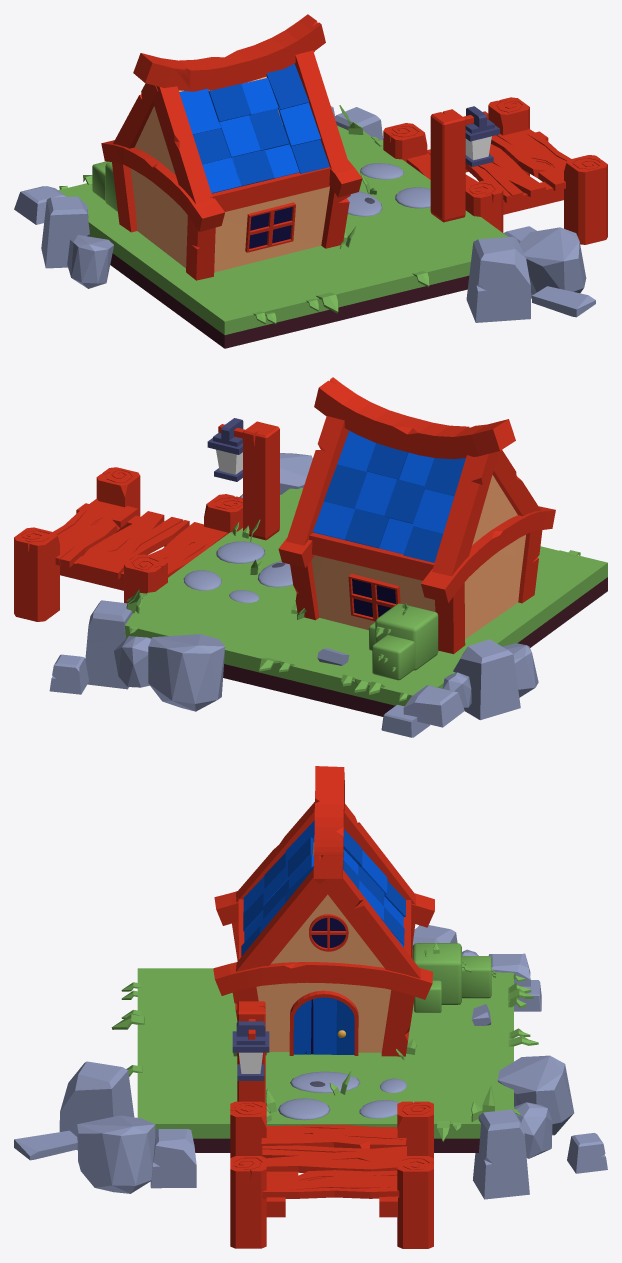
File: casa.gltf
3 views of the same model, one above another, from view 1: azimuth 30°, elevation 25°; view 2: azimuth 150°, elevation 25°; view 3: azimuth 270°, elevation 25° (orthographic). The views are drawn at different scales.
Parts seen in each view (by area): view 1: Grass, PAREDES, Cubo.004, Cubo.103, Cubo.046, Cubo.045, Cubo.102, Cubo.007, Cubo.026, Cubo.056, Cubo.038, Cubo.008 (+34 smaller); view 2: Grass, PAREDES, Cubo.004, Cubo.055, Cubo.046, Cubo, Cubo.006, Cubo.056, Cubo.041, Cubo.026, Cubo.005, Cubo.052 (+38 smaller); view 3: Grass, PAREDES, Cubo.102, Cubo.001, Cubo.052, puerta, Cubo.103, Cubo.038, Cubo.055, Cubo.041, Cubo.005, Cubo.004 (+24 smaller).
Part boxes in pixels (x1=…): Grass: x1=58, y1=125, x2=507, y2=348; PAREDES: x1=130, y1=76, x2=329, y2=272; Cubo.004: x1=133, y1=14, x2=325, y2=91; Cubo.103: x1=466, y1=237, x2=530, y2=322; Cubo.046: x1=430, y1=109, x2=465, y2=222; Cubo.045: x1=564, y1=155, x2=607, y2=244; Cubo.102: x1=519, y1=227, x2=586, y2=298; Cubo.007: x1=153, y1=86, x2=213, y2=204; Cubo.026: x1=101, y1=140, x2=224, y2=231; Cubo.056: x1=41, y1=196, x2=89, y2=268; Cubo.038: x1=491, y1=128, x2=570, y2=190; Cubo.008: x1=294, y1=50, x2=349, y2=169; Grass: x1=125, y1=488, x2=607, y2=716; PAREDES: x1=311, y1=475, x2=525, y2=638; Cubo.004: x1=314, y1=377, x2=515, y2=459; Cubo.055: x1=148, y1=634, x2=225, y2=711; Cubo.046: x1=243, y1=421, x2=279, y2=540; Cubo: x1=14, y1=527, x2=59, y2=621; Cubo.006: x1=432, y1=451, x2=498, y2=576; Cubo.056: x1=453, y1=639, x2=520, y2=720; Cubo.041: x1=77, y1=511, x2=189, y2=579; Cubo.026: x1=421, y1=506, x2=555, y2=603; Cubo.005: x1=286, y1=416, x2=349, y2=545; Cubo.052: x1=85, y1=600, x2=132, y2=689; Grass: x1=137, y1=968, x2=513, y2=1152; PAREDES: x1=256, y1=842, x2=391, y2=1052; Cubo.102: x1=77, y1=1115, x2=155, y2=1193; Cubo.001: x1=213, y1=962, x2=432, y2=999; Cubo.052: x1=473, y1=1109, x2=529, y2=1199; puerta: x1=289, y1=990, x2=358, y2=1055; Cubo.103: x1=59, y1=1061, x2=134, y2=1149; Cubo.038: x1=262, y1=1170, x2=399, y2=1198; Cubo.055: x1=497, y1=1055, x2=574, y2=1135; Cubo.041: x1=262, y1=1145, x2=406, y2=1172; Cubo.005: x1=313, y1=870, x2=420, y2=978; Cubo.004: x1=313, y1=766, x2=344, y2=878.
Bounding box in the file's own units: 44.62 × 22.26 × 44.39.
